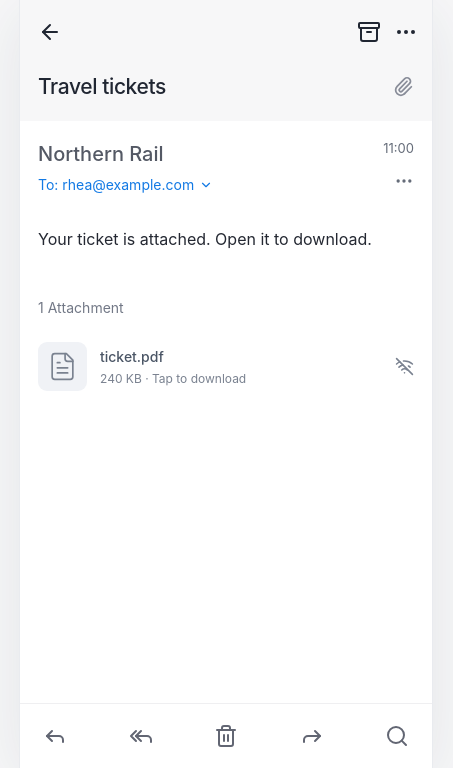
Test: mail prototype journeys › blocks downloading uncached attachments while offline
The image size is (453, 768).
Click the button "ticket.pdf 240 KB · Tap to download" at (62, 367), box [38, 328, 414, 405]
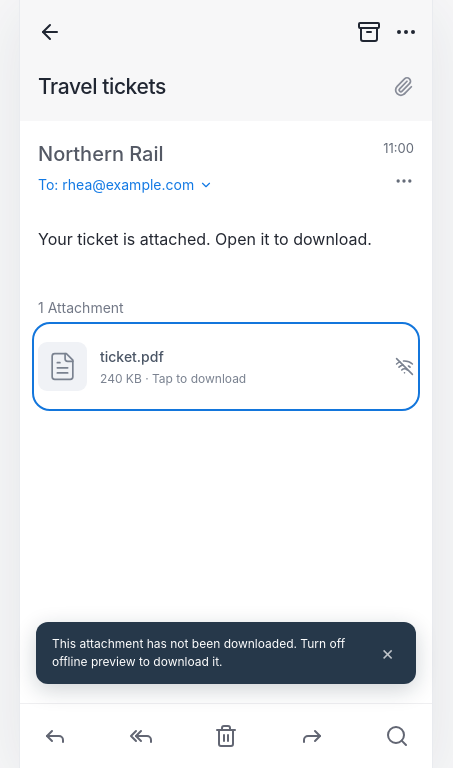
Expected: the message shows "has not been downloaded", [52, 636, 345, 669]
